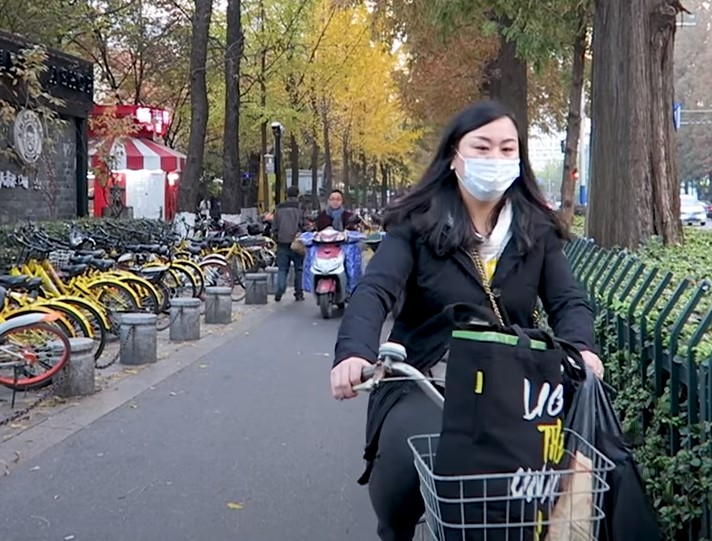face_with_mask: (447, 104, 526, 208)
